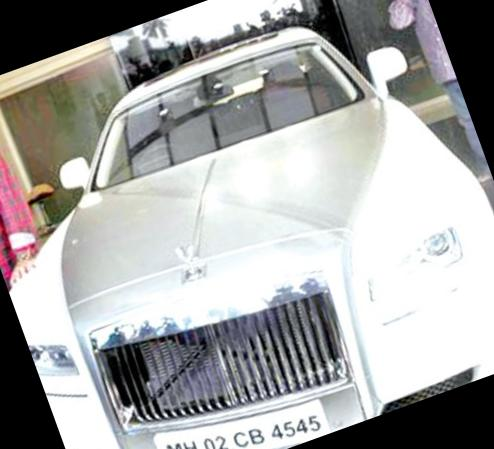plate: (143, 358, 362, 449)
